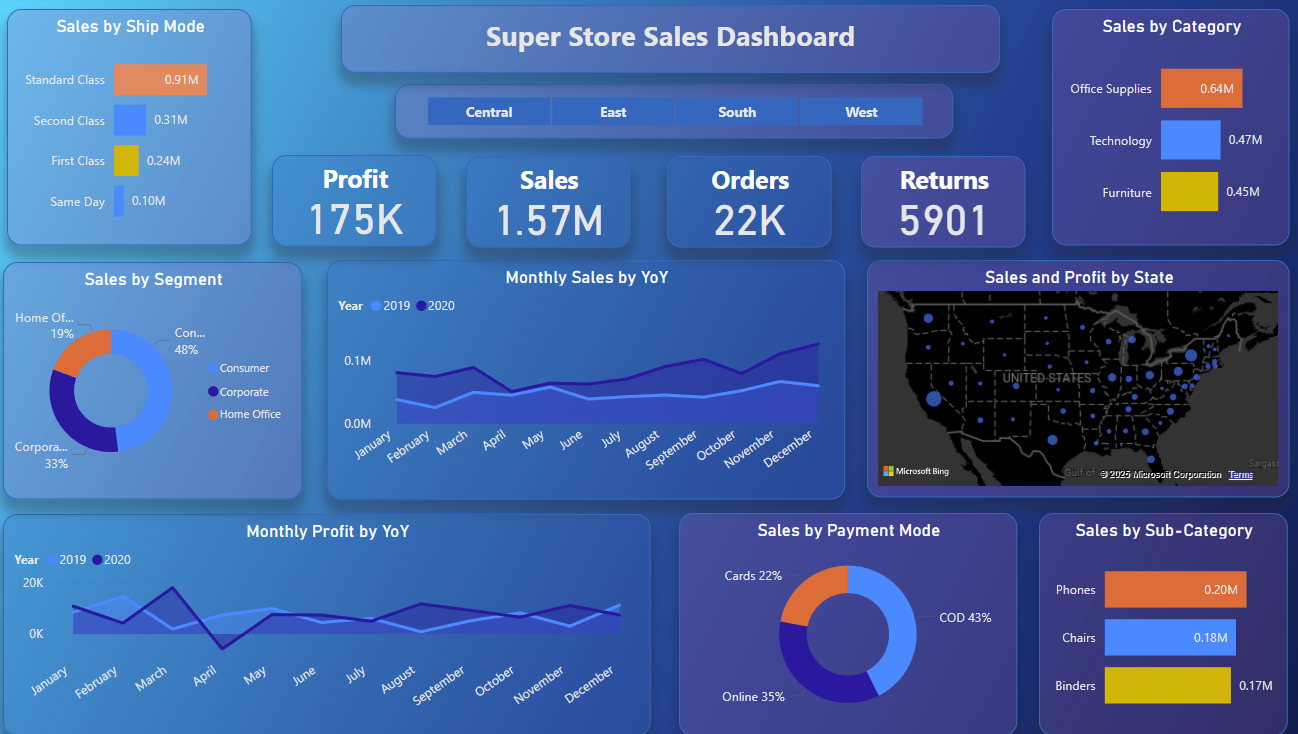

The dashboard page shown, as its layout file describes it:
{"tool":"powerbi","page":{"name":"Page 1","canvas":[1280,720],"ordinal":0},"visuals":[{"type":"clusteredBarChart","title":"Sales by Category","fields":{"Category":["SuperStore_Sales_Dataset_Cleaned.Category"],"Y":["Sum(SuperStore_Sales_Dataset_Cleaned.Sales)"]},"box":[1030,12.9,231.4,230],"z":0},{"type":"clusteredBarChart","title":"Sales by Sub-Category","fields":{"Category":["SuperStore_Sales_Dataset_Cleaned.Sub-Category"],"Y":["Sum(SuperStore_Sales_Dataset_Cleaned.Sales)"]},"box":[1017.1,502.9,241.7,217.1],"z":1000},{"type":"clusteredBarChart","title":"Sales by Ship Mode","fields":{"Category":["SuperStore_Sales_Dataset_Cleaned.Ship Mode"],"Y":["Sum(SuperStore_Sales_Dataset_Cleaned.Sales)"]},"box":[13.1,12.9,238.3,230],"z":2000},{"type":"areaChart","title":"Monthly Sales by YoY","fields":{"Y":["Sum(SuperStore_Sales_Dataset_Cleaned.Sales)"],"Category":["SuperStore_Sales_Dataset_Cleaned.Order Date.Variation.Date Hierarchy.Month","SuperStore_Sales_Dataset_Cleaned.Order Date.Variation.Date Hierarchy.Day"],"Series":["SuperStore_Sales_Dataset_Cleaned.Order Date.Variation.Date Hierarchy.Year"]},"box":[307.1,257.1,521.4,232.9],"z":3000},{"type":"areaChart","title":"Monthly Profit by YoY","fields":{"Category":["SuperStore_Sales_Dataset_Cleaned.Order Date.Variation.Date Hierarchy.Month","SuperStore_Sales_Dataset_Cleaned.Order Date.Variation.Date Hierarchy.Day"],"Series":["SuperStore_Sales_Dataset_Cleaned.Order Date.Variation.Date Hierarchy.Year"],"Y":["Sum(SuperStore_Sales_Dataset_Cleaned.Profit)"]},"box":[10,504.3,630,215.7],"z":4000},{"type":"map","title":"Sales and Profit by State","fields":{"Category":["SuperStore_Sales_Dataset_Cleaned.State"],"Size":["Sum(SuperStore_Sales_Dataset_Cleaned.Sales)"]},"box":[850,257.1,411.4,231.4],"z":5000},{"type":"donutChart","title":"Sales by Payment Mode","fields":{"Category":["SuperStore_Sales_Dataset_Cleaned.Payment Mode"],"Y":["Sum(SuperStore_Sales_Dataset_Cleaned.Sales)"]},"box":[667.1,502.9,328.6,217.1],"z":6000},{"type":"donutChart","title":"Sales by Segment","fields":{"Category":["SuperStore_Sales_Dataset_Cleaned.Segment"],"Y":["Sum(SuperStore_Sales_Dataset_Cleaned.Sales)"]},"box":[10,258.6,270,231.4],"z":7000},{"type":"slicer","fields":{"Values":["SuperStore_Sales_Dataset_Cleaned.Region"]},"box":[391.4,85.7,542.9,52.9],"z":8000},{"type":"textbox","box":[338.6,8.6,641.1,65.7],"z":9000},{"type":"card","title":"Sales","fields":{"Values":["Sum(SuperStore_Sales_Dataset_Cleaned.Sales)"]},"box":[460,155.7,160,88.6],"z":10000},{"type":"card","title":"Orders","fields":{"Values":["Sum(SuperStore_Sales_Dataset_Cleaned.Quantity)"]},"box":[655.7,155.7,160,88.6],"z":11000},{"type":"card","title":"Profit","fields":{"Values":["Sum(SuperStore_Sales_Dataset_Cleaned.Profit)"]},"box":[271.4,154.3,160,88.6],"z":12000},{"type":"card","title":"Returns","fields":{"Values":["CountNonNull(SuperStore_Sales_Dataset_Cleaned.Returns)"]},"box":[844.3,155.7,160,88.6],"z":13000}]}

Visuals, with their boxes in screenshot pixels (x1, y1, x2, y2), scaled from the page's 1280x720 canvas onto the 1298x734 screenshot:
"Sales by Category" clusteredBarChart: 1044/13/1279/248
"Sales by Sub-Category" clusteredBarChart: 1031/513/1277/733
"Sales by Ship Mode" clusteredBarChart: 13/13/255/248
"Monthly Sales by YoY" areaChart: 311/262/840/500
"Monthly Profit by YoY" areaChart: 10/514/649/733
"Sales and Profit by State" map: 862/262/1279/498
"Sales by Payment Mode" donutChart: 676/513/1010/733
"Sales by Segment" donutChart: 10/264/284/500
slicer - SuperStore_Sales_Dataset_Cleaned.Region: 397/87/947/141
textbox: 343/9/993/76
"Sales" card: 466/159/629/249
"Orders" card: 665/159/827/249
"Profit" card: 275/157/437/248
"Returns" card: 856/159/1018/249
